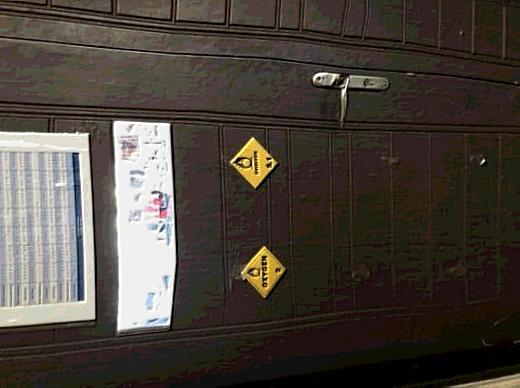oxidizer: (240, 245, 290, 302), (229, 137, 280, 192)
